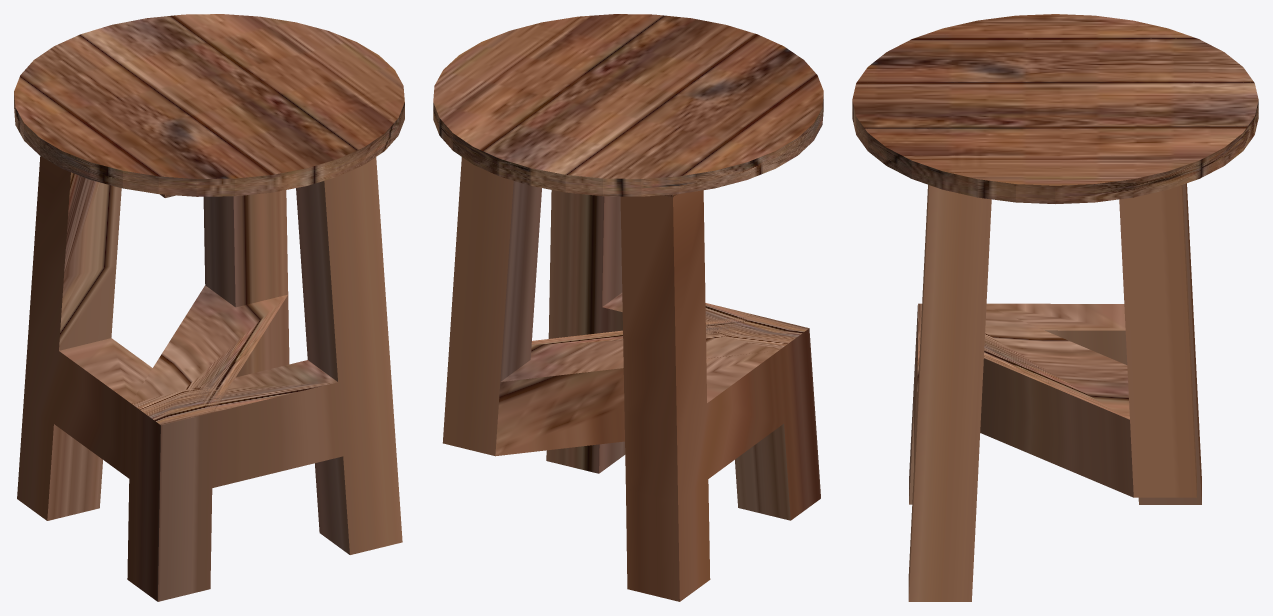
File: chair.gltf
3 renders of one model, left to right at view 1: azimuth 30°, elevation 25°; view 2: azimuth 150°, elevation 25°; view 3: azimuth 270°, elevation 25°, orthographic. The views are drawn at different scales.
Visible parts, largest first — view 1: Cube, Cylinder; view 2: Cube, Cylinder; view 3: Cube, Cylinder.
Boxes of the visible parts, x1,y1,x2,y2 form: Cube: [17, 156, 402, 601]; Cylinder: [14, 14, 404, 196]; Cube: [442, 157, 820, 601]; Cylinder: [433, 14, 823, 196]; Cube: [908, 183, 1201, 601]; Cylinder: [852, 14, 1258, 203].
Bounding box in the file's own units: 8.3 × 9.93 × 8.3.
2 materials, 2 textured.
